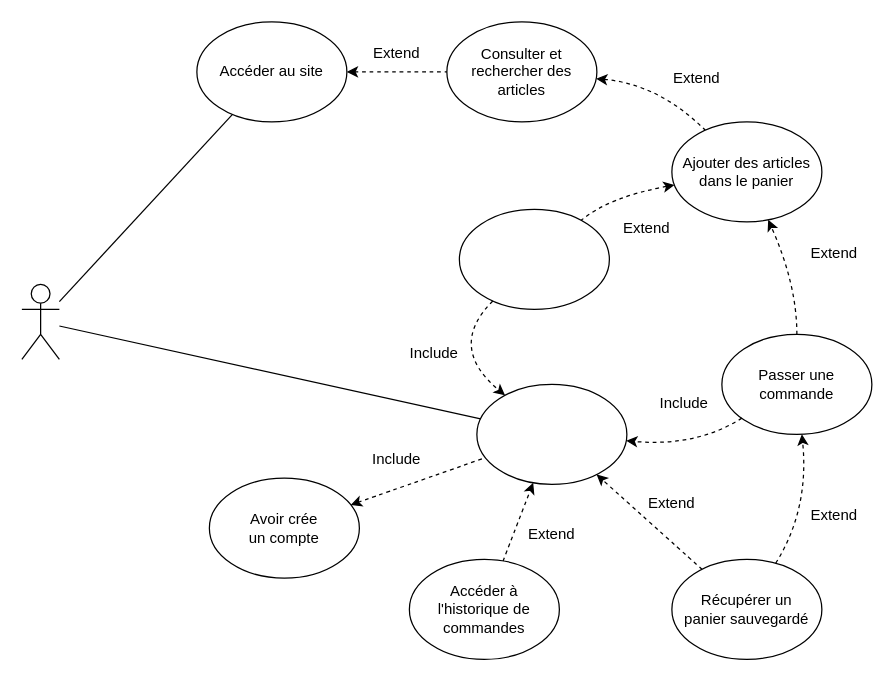
Some shapes in this 894 by 681 pixel diagram are drawn without their labels. Here are the shapes that lost their labels. From the top down, the centre of each, then its label:
At pixel 533 258: "Sauvegarder le panier".
At pixel 40 321: "User".
At pixel 551 433: "Se connecter".
